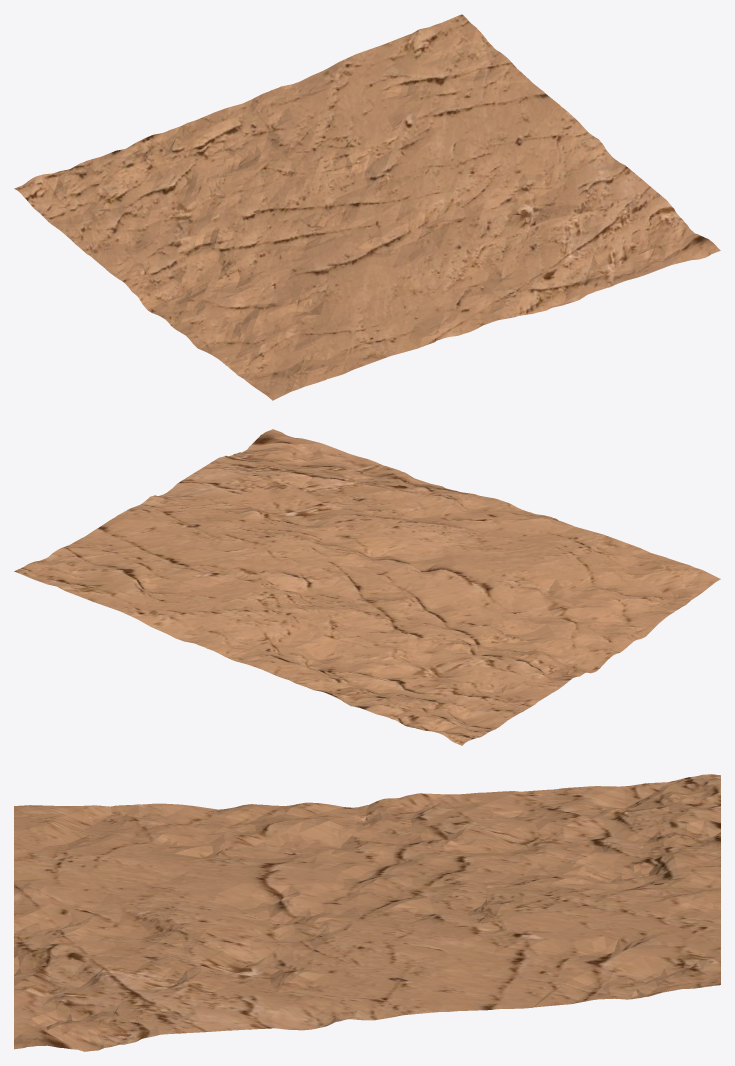
3 views of the same model, one above another, from view 1: azimuth 30°, elevation 25°; view 2: azimuth 150°, elevation 25°; view 3: azimuth 270°, elevation 25° (orthographic). The views are drawn at different scales.
Size of the model in its own units: 1.04 by 0.2011 by 1.04.
Materials: 2 (2 with a texture image).
